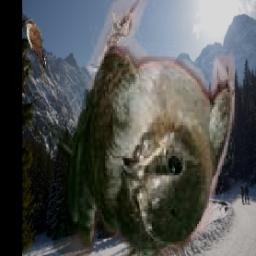Cuckoo: (24, 19, 46, 89)
Swallow: (41, 0, 235, 256)
